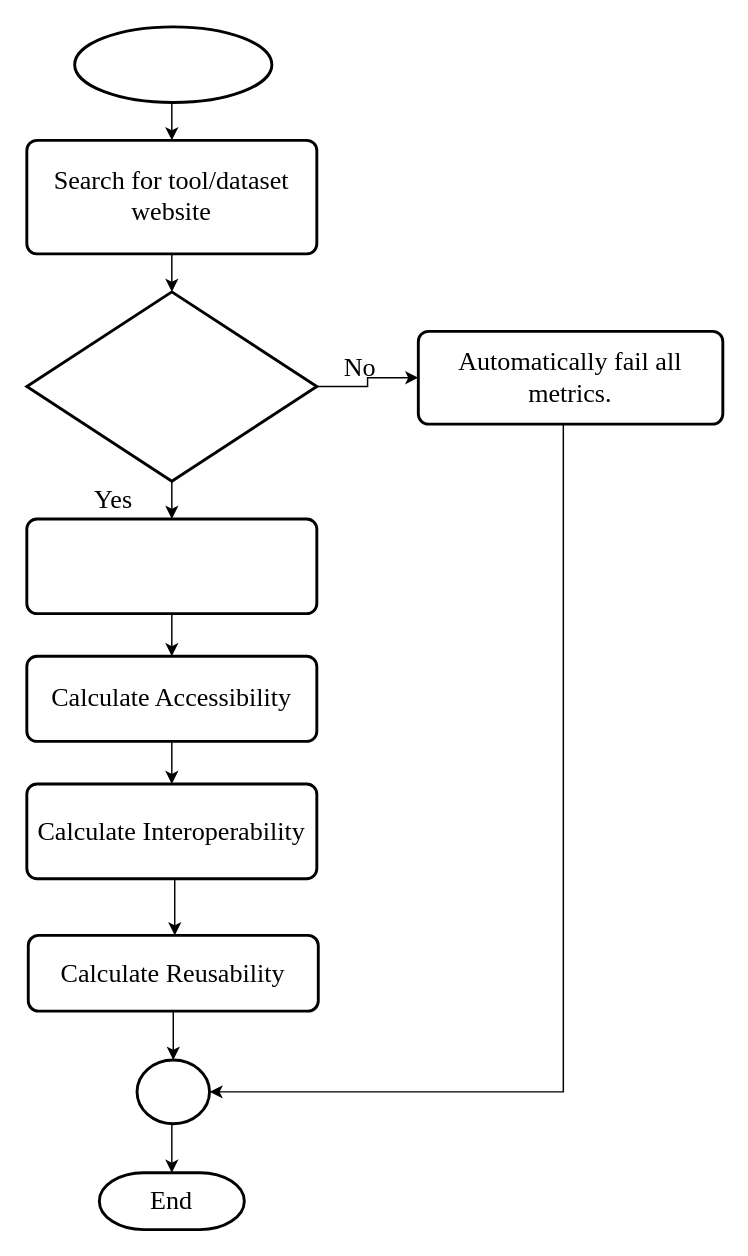
This 748x1256 diagram has some shape labels left out. The centre of each missing label's shape, as x and y in pixels:
"Calculate Findability" belongs at point (171, 565).
"Start" belongs at point (172, 64).
"Was website found?" belongs at point (171, 386).
